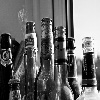beer: (51, 27, 75, 100)
